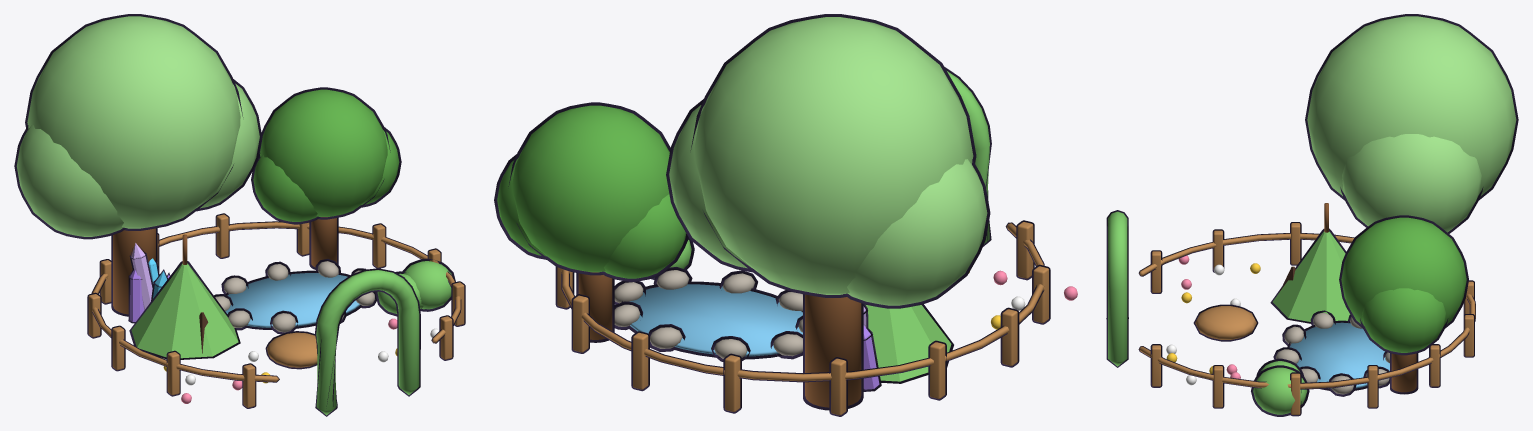
The model's file is sanctuary_3.glb.
3 views of the same model, side by side, from view 1: azimuth 30°, elevation 25°; view 2: azimuth 150°, elevation 25°; view 3: azimuth 270°, elevation 25° (orthographic). The views are drawn at different scales.
Visible parts, largest first — view 1: crown.003, crown, crown.004, arch, tent, pond, rail, crown.001, crown.005, trunk.001, bush.001, nest (+18 smaller); view 2: crown.003, crown, crown.004, pond, trunk.001, rail, crown.005, crown.001, tent, crown.002, arch, trunk (+16 smaller); view 3: crown.003, crown.005, crown, crown.002, tent, pond, rail, arch, bush.001, nest, trunk, box.011 (+9 smaller).
Part boxes in pixels (x1,y1,x2,y2): crown.003: (25,14,243,230); crown: (258,87,390,219); crown.004: (14,125,126,239); arch: (315,268,420,416); tent: (129,261,240,359); pond: (225,270,362,329); rail: (91,221,461,382); crown.001: (251,153,320,224); crown.005: (196,79,262,211); trunk.001: (111,228,157,316); bush.001: (402,258,455,311); nest: (265,331,317,369); crown.003: (690,14,976,297); crown: (508,102,670,275); crown.004: (843,159,990,308); pond: (621,281,802,359); trunk.001: (803,294,863,410); rail: (561,222,1044,382); crown.005: (666,99,752,272); crown.001: (600,194,688,281); tent: (865,304,953,383); crown.002: (494,154,547,259); arch: (944,67,991,246); trunk: (576,272,614,342); crown.003: (1305,14,1518,200); crown.005: (1340,134,1483,233); crown: (1339,215,1468,328); crown.002: (1360,288,1448,355); tent: (1270,228,1350,323); pond: (1287,320,1389,391); rail: (1138,233,1475,389); arch: (1106,210,1128,367); bush.001: (1251,365,1309,416); nest: (1193,304,1258,341); trunk: (1390,353,1418,394); box.011: (1212,365,1224,408).
Size of the model in its own units: 5.32 by 4.08 by 5.33.
